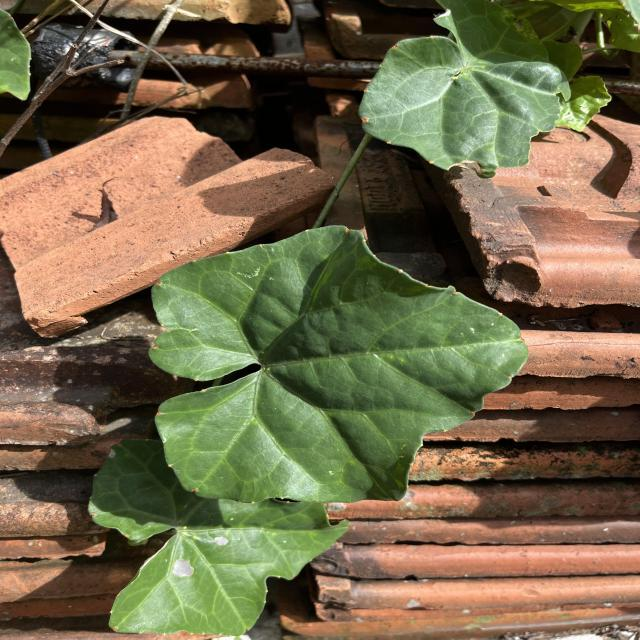Coccinia grandis: (145, 222, 532, 506)
